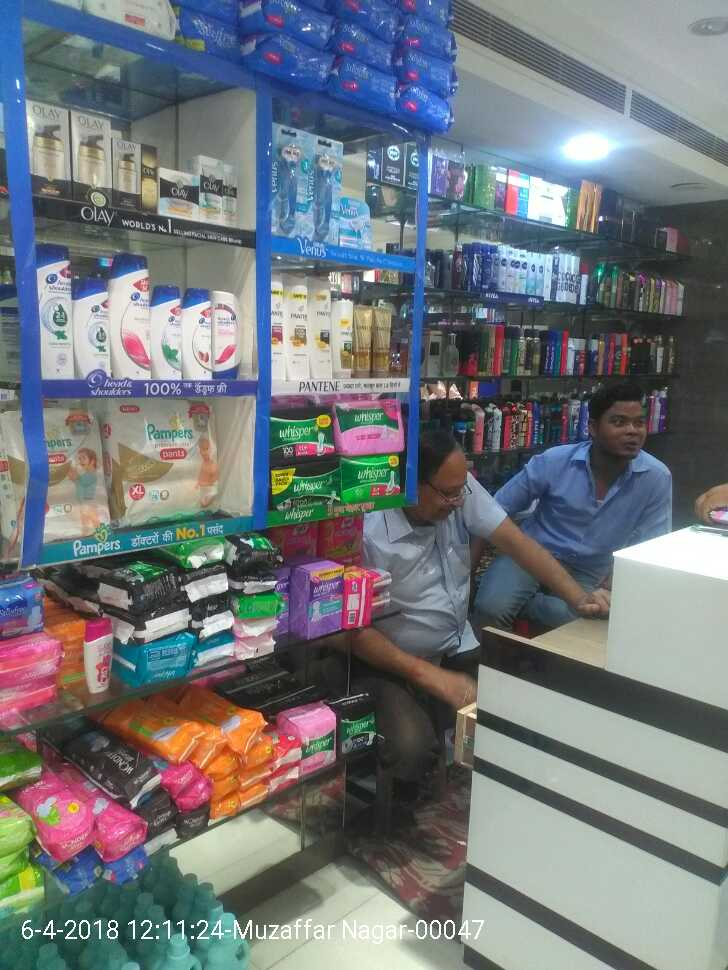venus: (274, 133, 312, 233), (314, 133, 339, 242), (341, 202, 370, 245)
